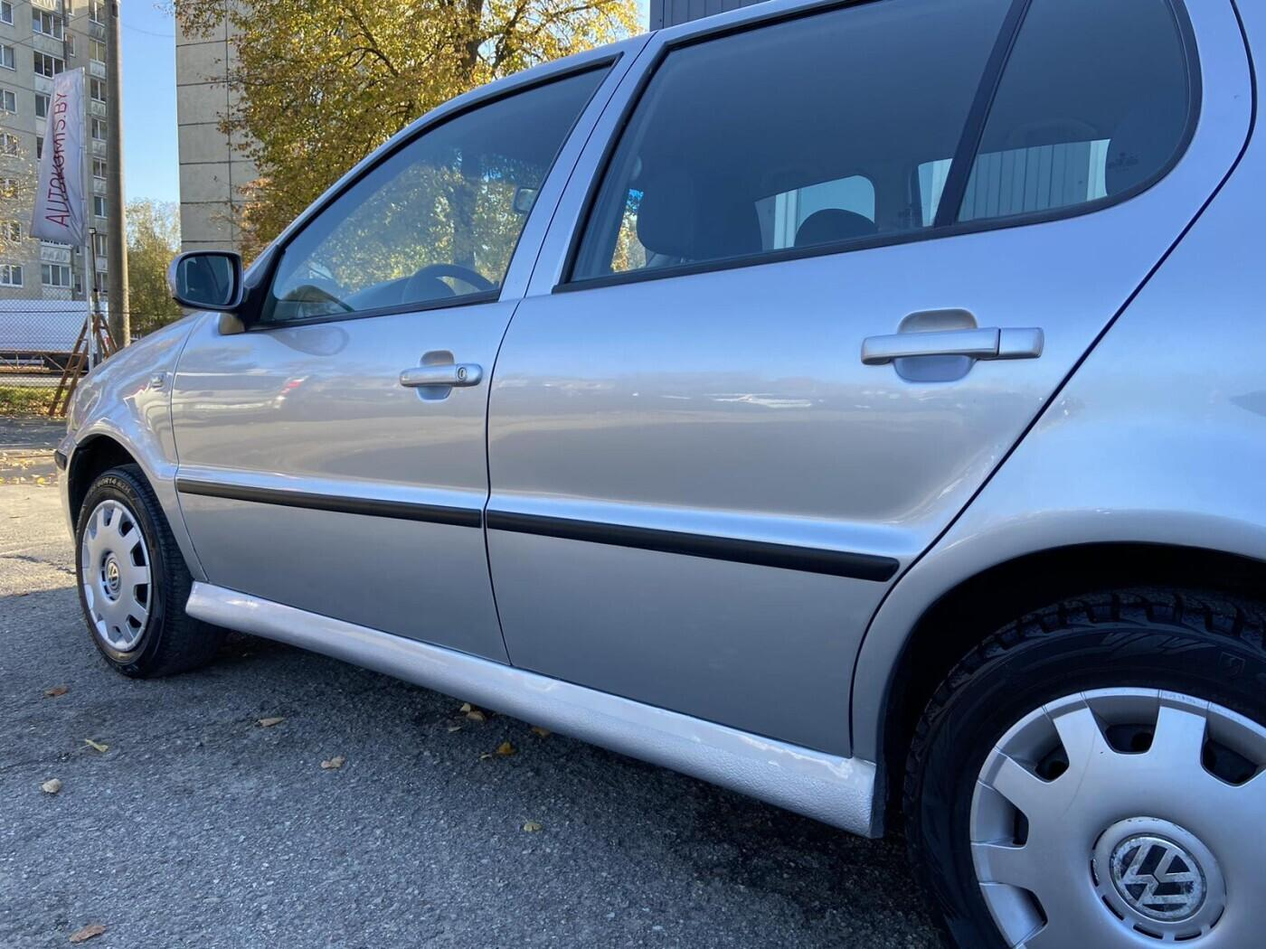Polo_2000-2002: (61, 0, 1266, 949)
